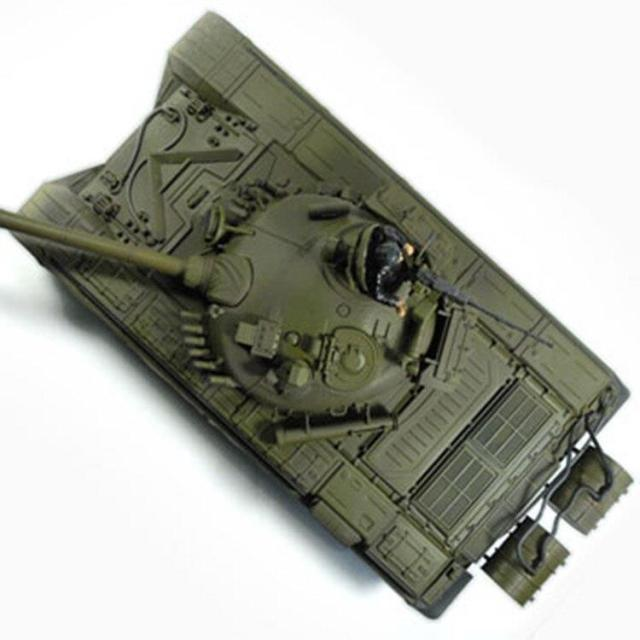MIL_MBT: (14, 20, 568, 599)
